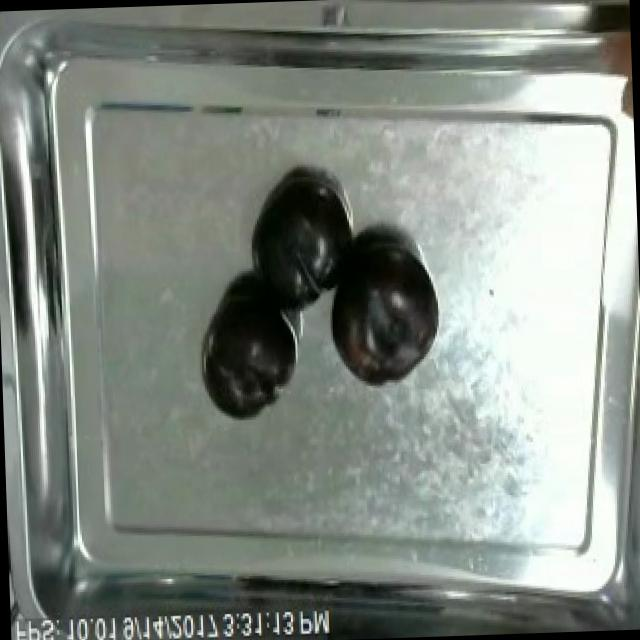Fruit: (323, 230, 442, 390), (245, 175, 357, 305), (197, 286, 296, 426)
